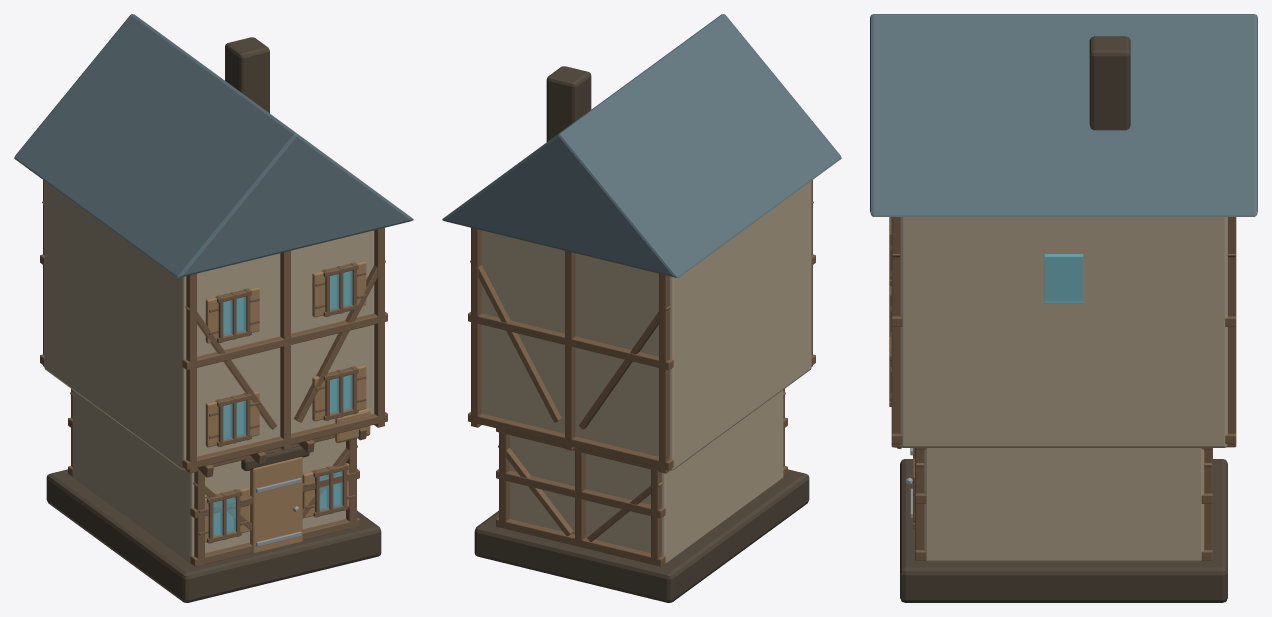
Rendered from narrow_house.glb.
3 views of the same model, side by side, from view 1: azimuth 30°, elevation 25°; view 2: azimuth 150°, elevation 25°; view 3: azimuth 270°, elevation 25° (orthographic). The views are drawn at different scales.
Parts seen in each view (by area): view 1: Roof, OverhangingUpperFloor, GroundFloor, StoneFoundation, INTERACT_Door, Chimney, TimberBeam.008, TimberBeam.006, TimberPost.006, TimberPost.008, TimberPost.010, DiagonalBrace.006 (+15 smaller); view 2: OverhangingUpperFloor, Roof, GroundFloor, StoneFoundation, Chimney, TimberBeam.007, TimberBeam.009, TimberPost.009, TimberPost.007, TimberPost.011, TimberBeam.003, TimberBeam.001 (+7 smaller); view 3: Roof, OverhangingUpperFloor, GroundFloor, StoneFoundation, Chimney, WindowGlass.007, TimberPost.010, TimberPost.011, TimberPost.004, TimberPost.005.
Boxes of the visible parts, box(x1,y1,x2,y2) form: Roof: box(14, 14, 413, 277); OverhangingUpperFloor: box(44, 181, 374, 470); GroundFloor: box(72, 390, 345, 562); StoneFoundation: box(46, 469, 381, 602); INTERACT_Door: box(250, 456, 302, 552); Chimney: box(225, 37, 269, 113); TimberBeam.008: box(182, 312, 387, 370); TimberBeam.006: box(182, 412, 387, 470); TimberPost.006: box(186, 273, 196, 473); TimberPost.008: box(280, 250, 290, 450); TimberPost.010: box(374, 227, 384, 427); DiagonalBrace.006: box(294, 260, 385, 422); OverhangingUpperFloor: box(481, 181, 811, 470); Roof: box(442, 14, 841, 277); GroundFloor: box(510, 390, 783, 562); StoneFoundation: box(474, 469, 809, 602); Chimney: box(546, 66, 591, 141); TimberBeam.007: box(468, 412, 673, 470); TimberBeam.009: box(468, 312, 673, 370); TimberPost.009: box(565, 250, 575, 450); TimberPost.007: box(659, 273, 669, 473); TimberPost.011: box(471, 227, 481, 427); TimberBeam.003: box(496, 469, 665, 518); TimberBeam.001: box(496, 517, 665, 566); Roof: box(870, 14, 1257, 216); OverhangingUpperFloor: box(900, 217, 1227, 447); GroundFloor: box(923, 448, 1204, 560); StoneFoundation: box(900, 459, 1227, 602); Chimney: box(1089, 36, 1130, 130); WindowGlass.007: box(1044, 254, 1083, 303); TimberPost.010: box(891, 217, 900, 447); TimberPost.011: box(1227, 217, 1236, 447); TimberPost.004: box(915, 448, 923, 550); TimberPost.005: box(1204, 448, 1212, 550).
Bounding box in the file's own units: 5.61 × 10.35 × 6.79.
